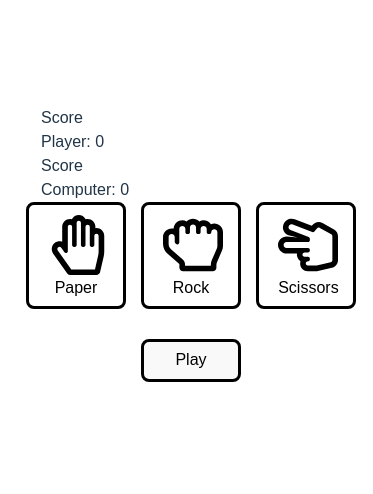
Scenario: Results › should render that computer won after 3 seconds
Click the button "Paper" at (76, 256), box [26,202,126,309]
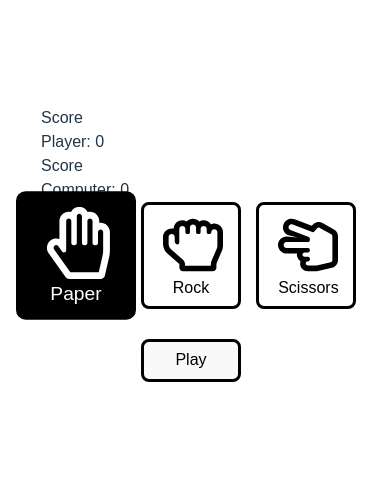
Click the button "Play" at (191, 360), box [141,339,241,382]
Wait 3000 ms
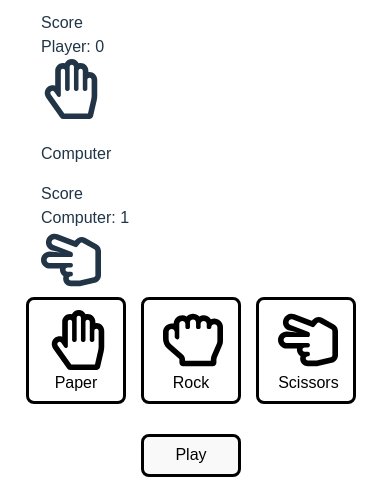
expect the text with test id "winner" reads "Computer": met, box [41,145,111,162]
expect the icon with test id "paperHand|rockHand|scissorsHand" is shown: met, box [41,59,101,119]
